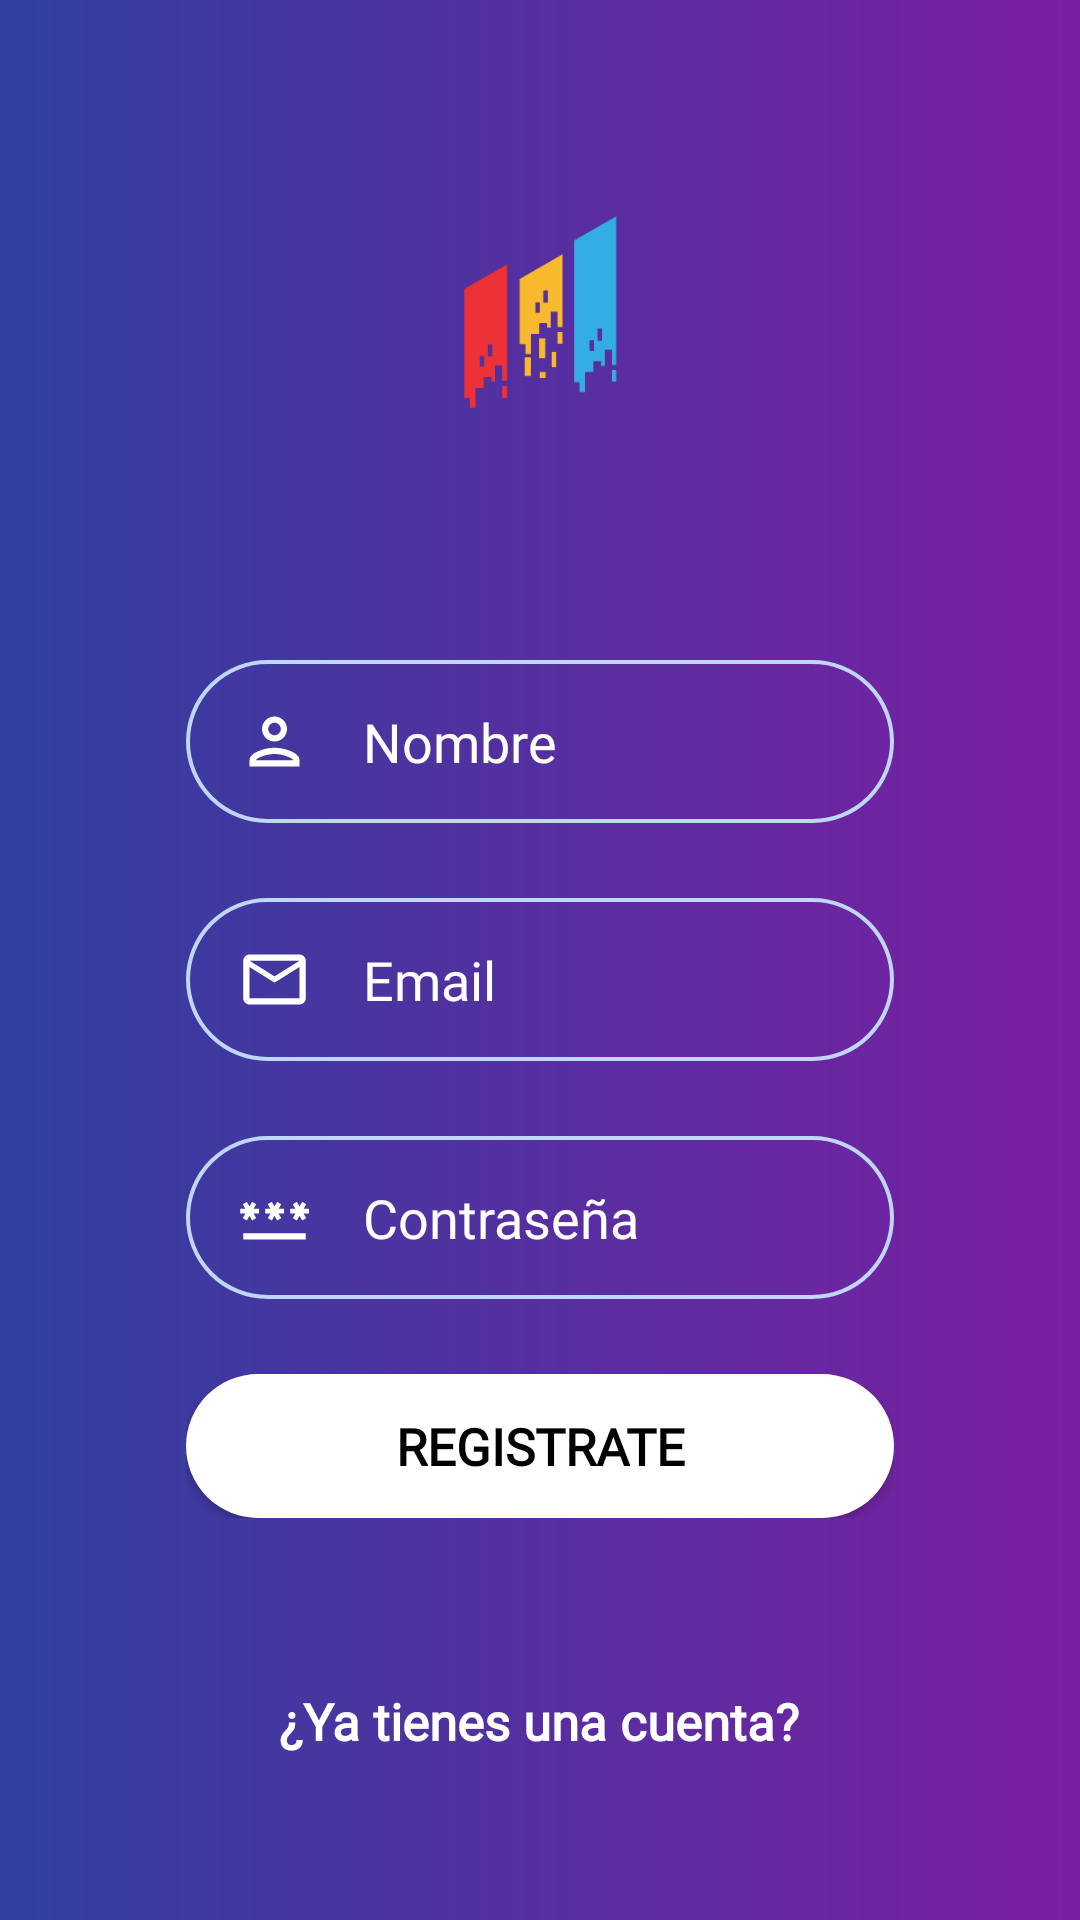

Icon bounding boxes for this 1080w x 1920h phone screenshot, format rect(x1, y1, x2, y2):
password: rect(240, 1202, 309, 1240)
person: rect(249, 716, 300, 767)
